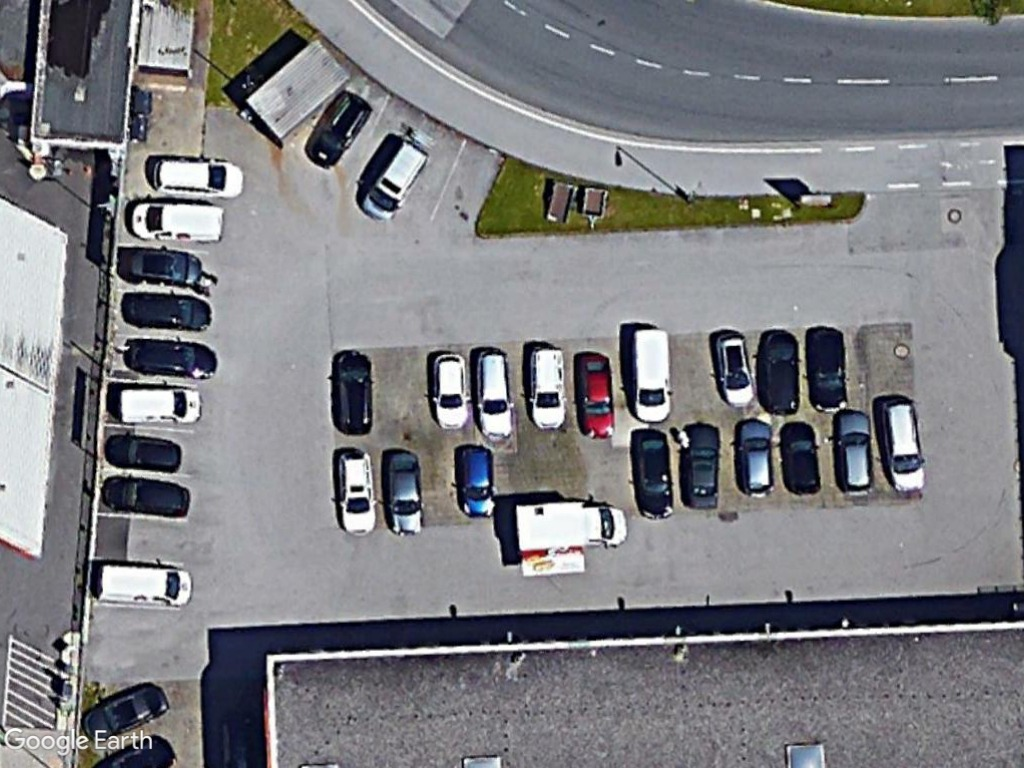car: (359, 134, 432, 224), (303, 86, 373, 169), (877, 395, 929, 497), (148, 150, 246, 202), (328, 443, 381, 538), (626, 427, 679, 522), (325, 347, 378, 439), (521, 338, 571, 435), (127, 334, 224, 384), (378, 446, 429, 541), (468, 344, 515, 445), (96, 471, 192, 519), (831, 408, 879, 500), (677, 419, 723, 515), (116, 240, 205, 289), (572, 350, 619, 442), (776, 417, 826, 502), (426, 348, 473, 435), (100, 432, 188, 477), (734, 417, 781, 500), (451, 439, 498, 522)
truck: (508, 496, 632, 551)
van: (625, 321, 677, 426), (92, 557, 195, 610), (127, 197, 230, 245), (112, 384, 205, 427)
